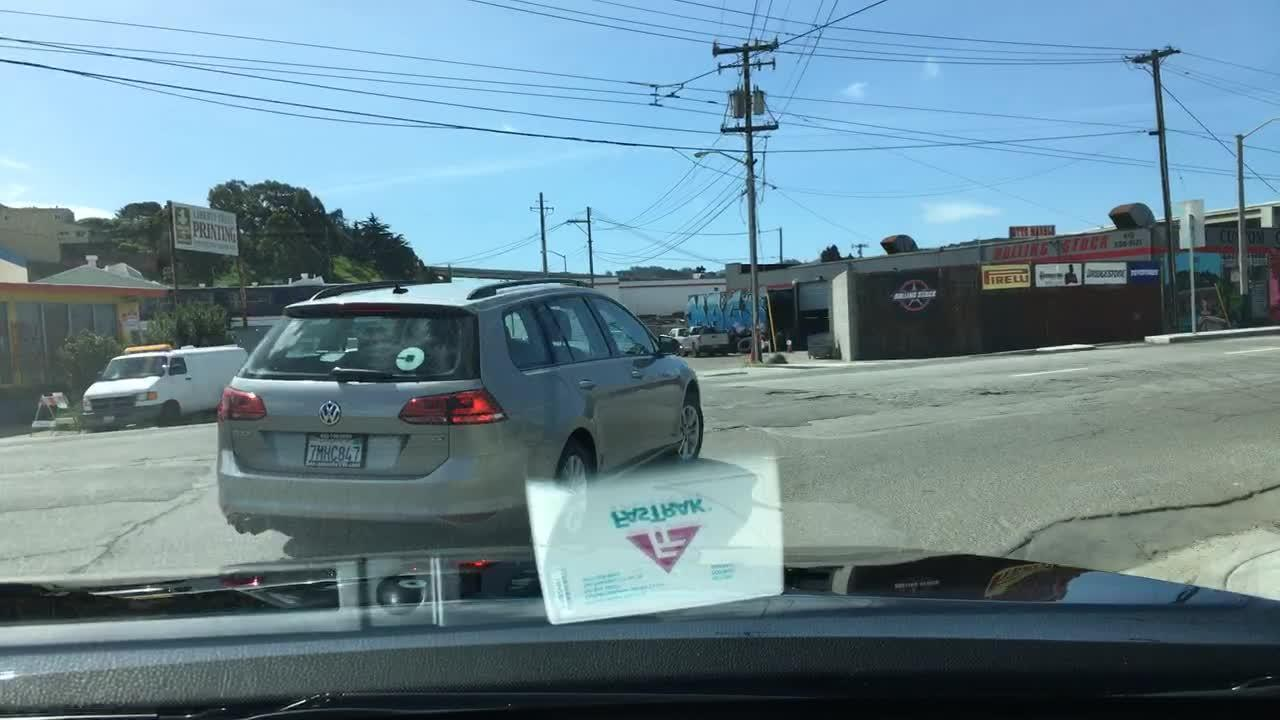Volkswagen: (312, 398, 348, 432)
